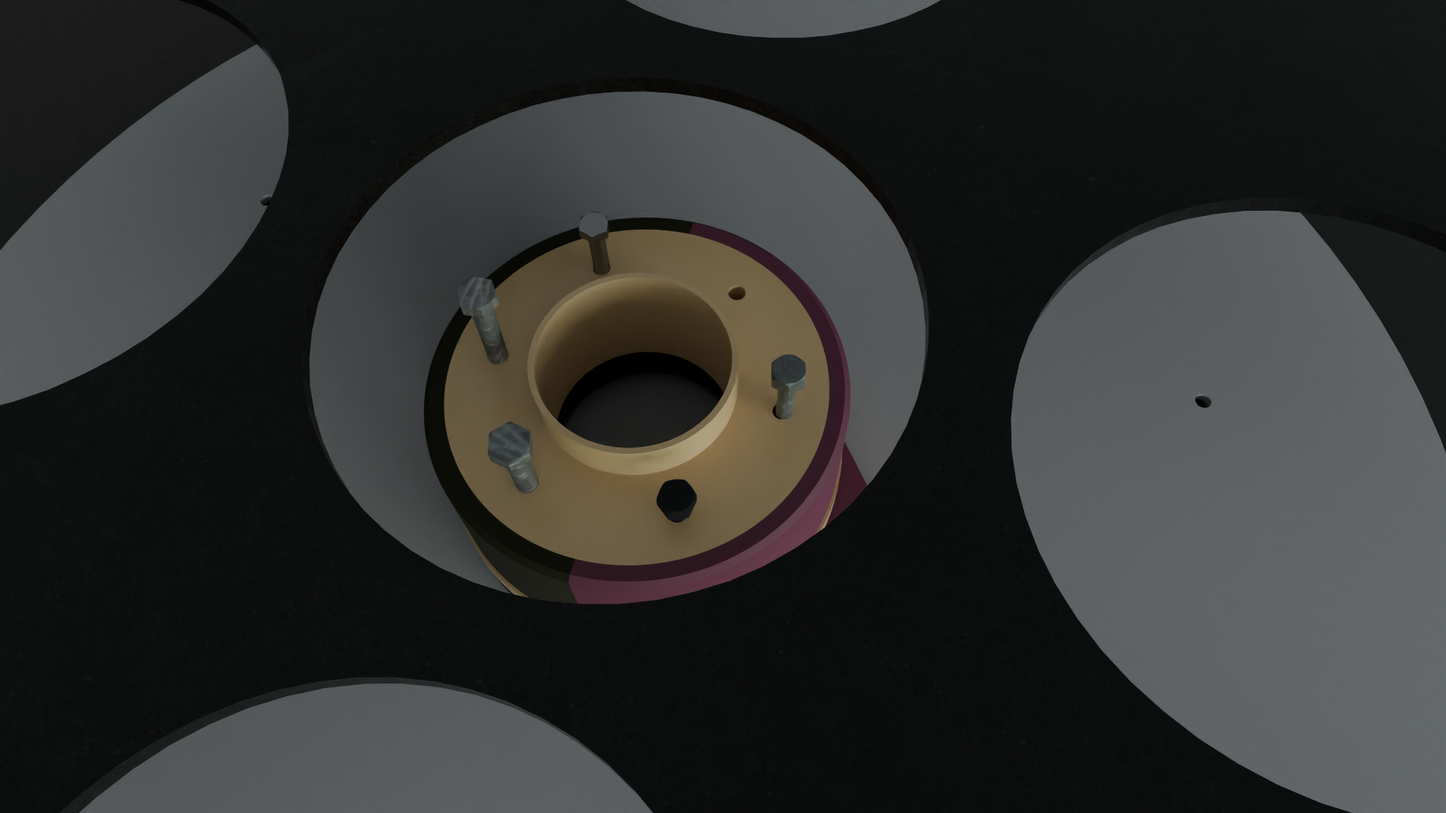bolt: (488, 422, 530, 464), (657, 479, 697, 514), (456, 276, 497, 310), (772, 355, 806, 388), (579, 212, 609, 237)
